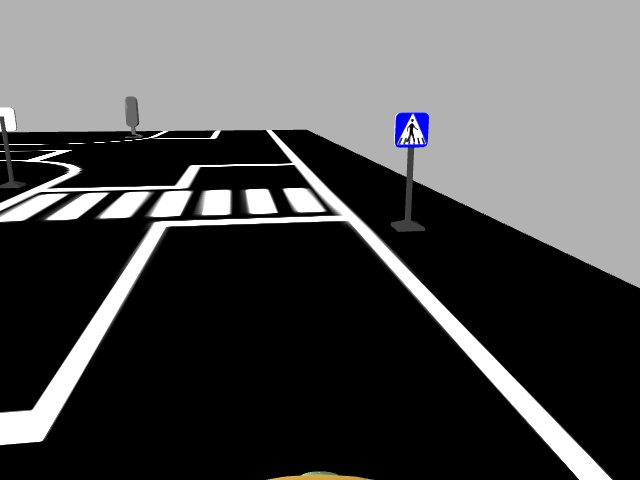Crosswalk: (393, 110, 429, 148)
